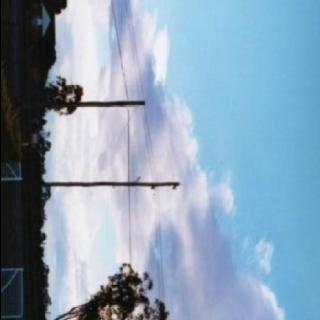Stratocumulus: (51, 0, 320, 320)
